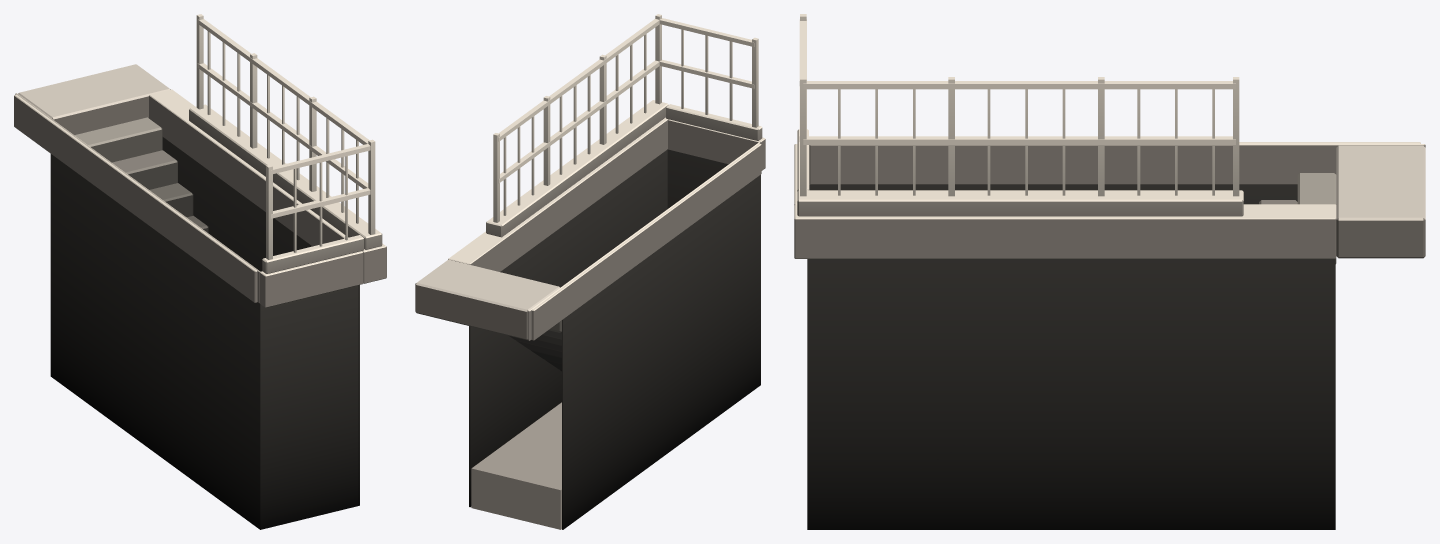
Rendered from SM_VKI_Stair_Down_150x450_Stone.fbx.
3 views of the same model, side by side, from view 1: azimuth 30°, elevation 25°; view 2: azimuth 150°, elevation 25°; view 3: azimuth 270°, elevation 25° (orthographic). The views are drawn at different scales.
Visible parts, largest first — view 1: SM_VKI_Stair_Down_150x450_Stone.001; view 2: SM_VKI_Stair_Down_150x450_Stone.001; view 3: SM_VKI_Stair_Down_150x450_Stone.001.
Part boxes in pixels (x1,y1,x2,y2): SM_VKI_Stair_Down_150x450_Stone.001: [14, 14, 386, 529]; SM_VKI_Stair_Down_150x450_Stone.001: [415, 14, 765, 529]; SM_VKI_Stair_Down_150x450_Stone.001: [794, 14, 1425, 529].
Size of the model in its own units: 1.21 by 3.38 by 4.22.
